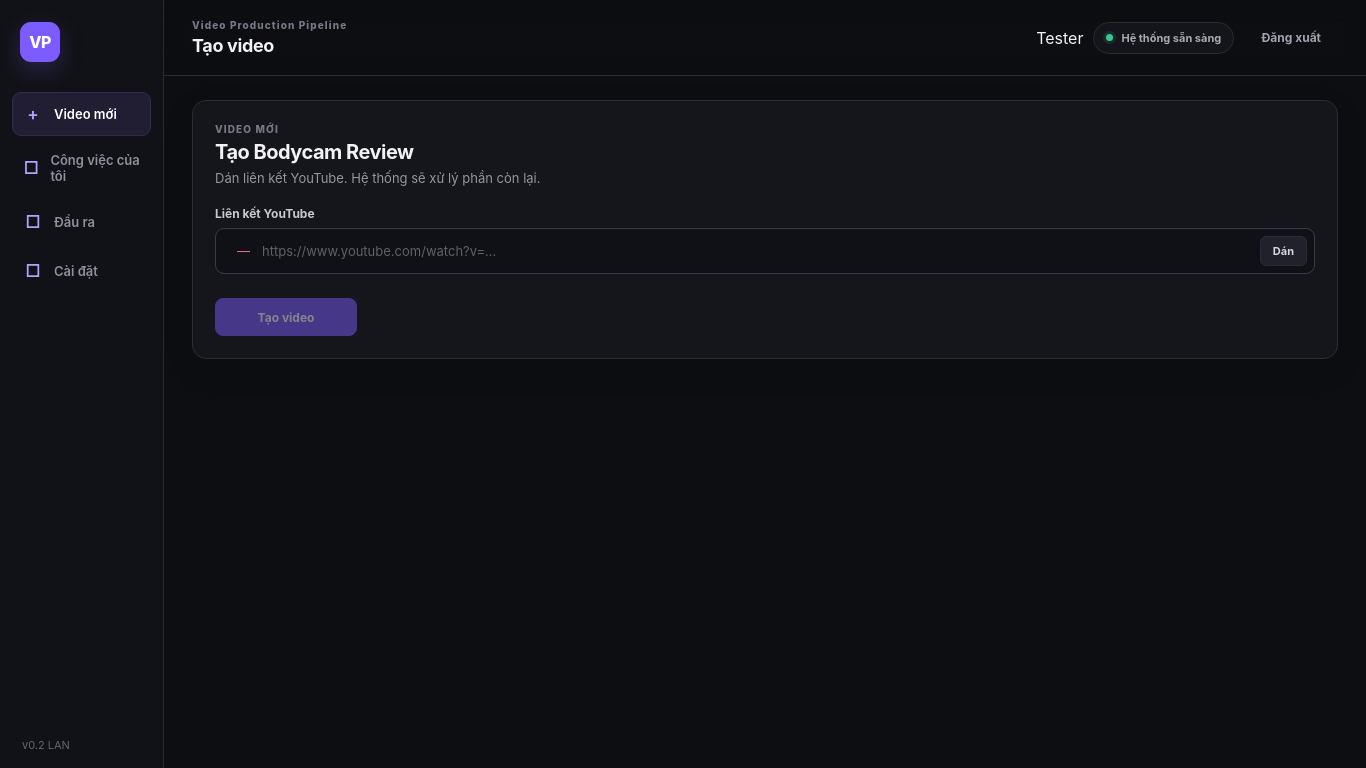
Test: App › returns to login when the session expires
Click the button "□ Công việc của tôi": (82, 168) [12,141,151,195]
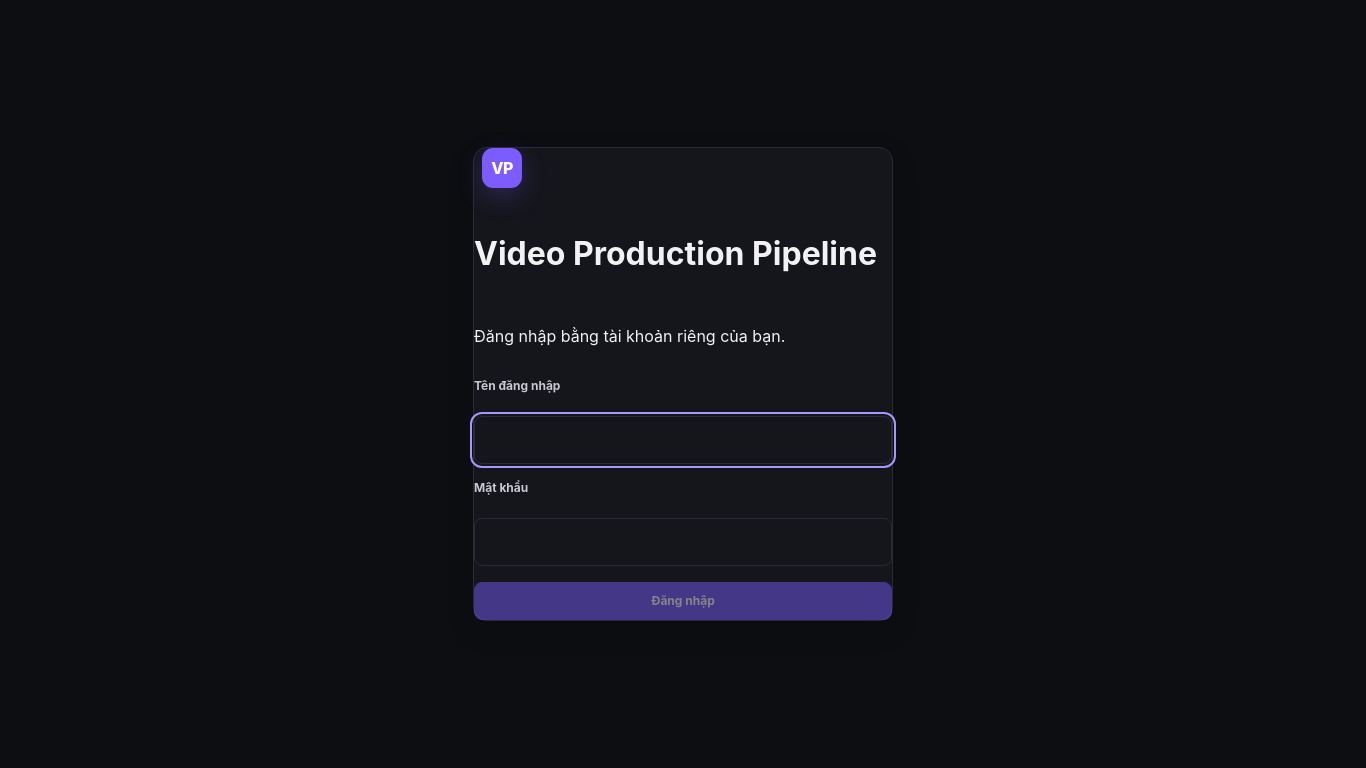
Now the password field labelled "Mật khẩu" is shown, box [474,518,892,566]
